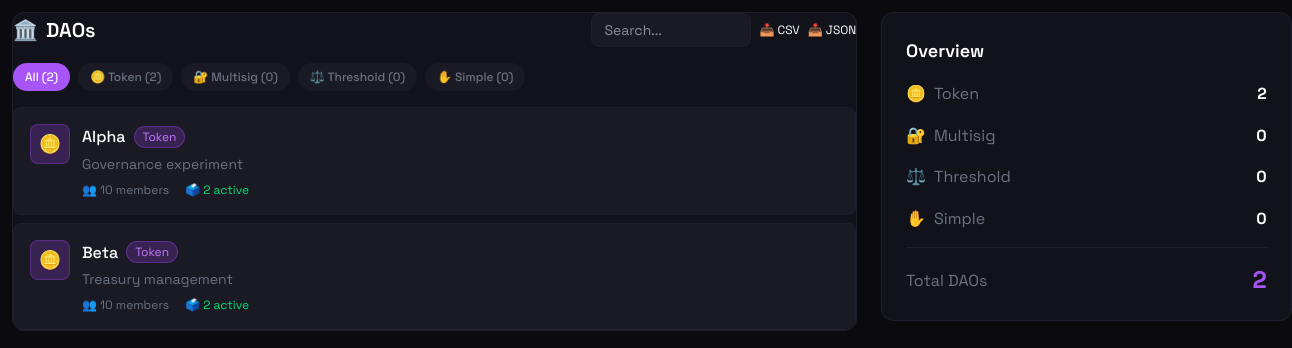
it: DAOsView › filters DAOs by description via search input
Expected: the text "Alpha" is shown, [82, 124, 126, 150]
Type "Treasury" into the field with placeholder "Search..." at [671, 30], box [591, 13, 751, 47]
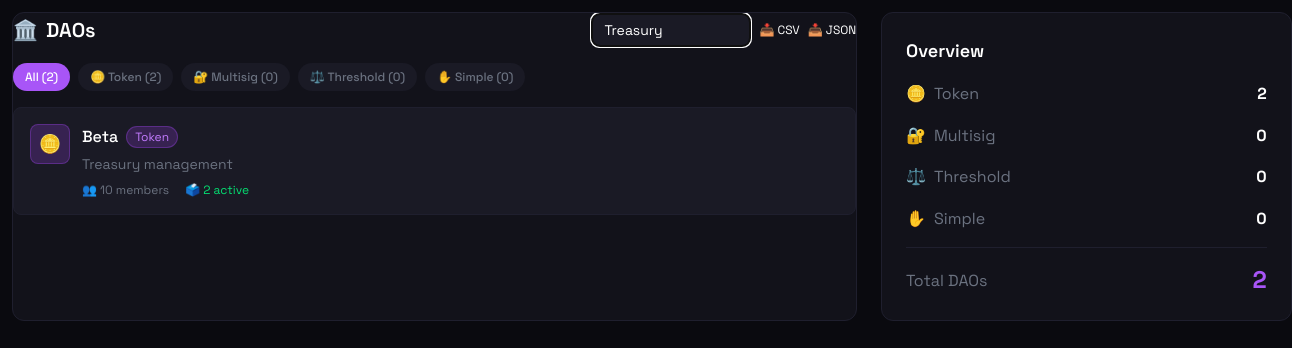
Expected: the text "Beta" is shown, [82, 124, 118, 150]
Result: the button "Alpha" is gone
